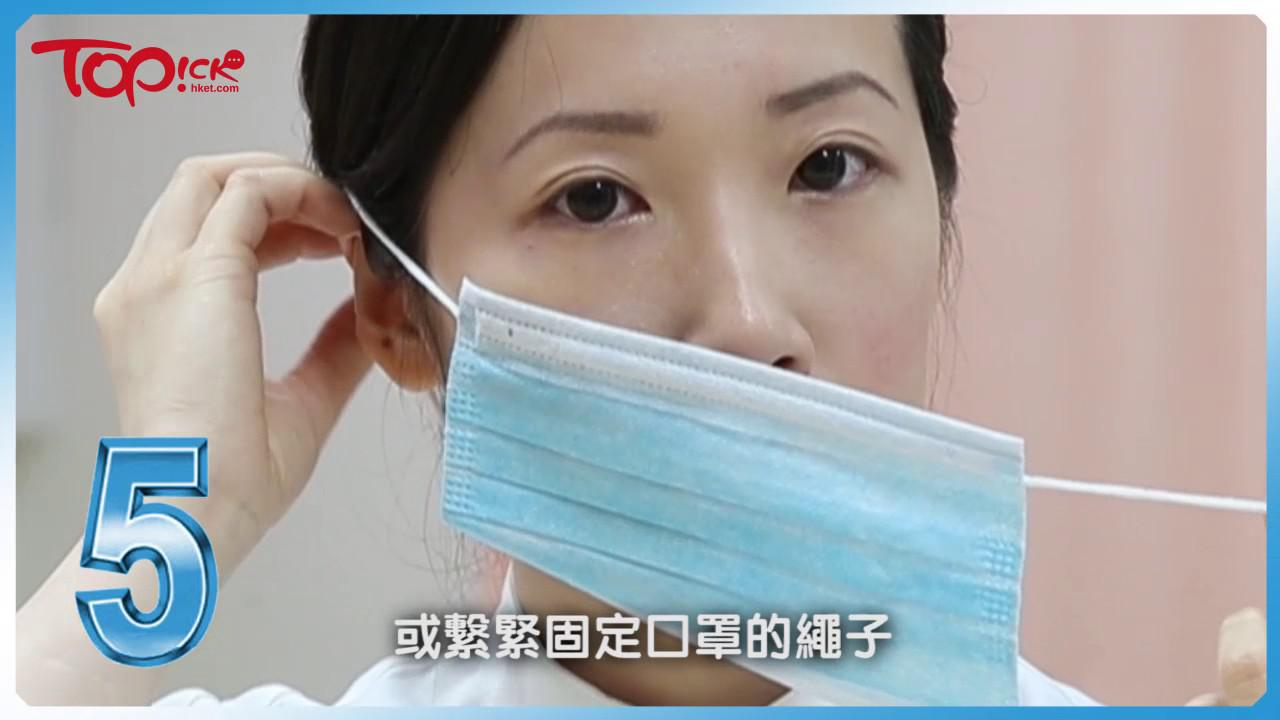poor: (424, 54, 949, 645)
